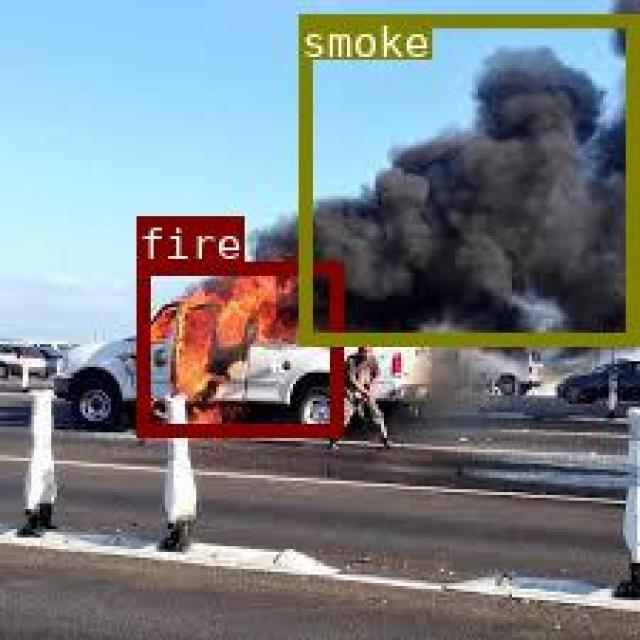fire: (134, 261, 341, 433)
smoke: (298, 14, 634, 341)
